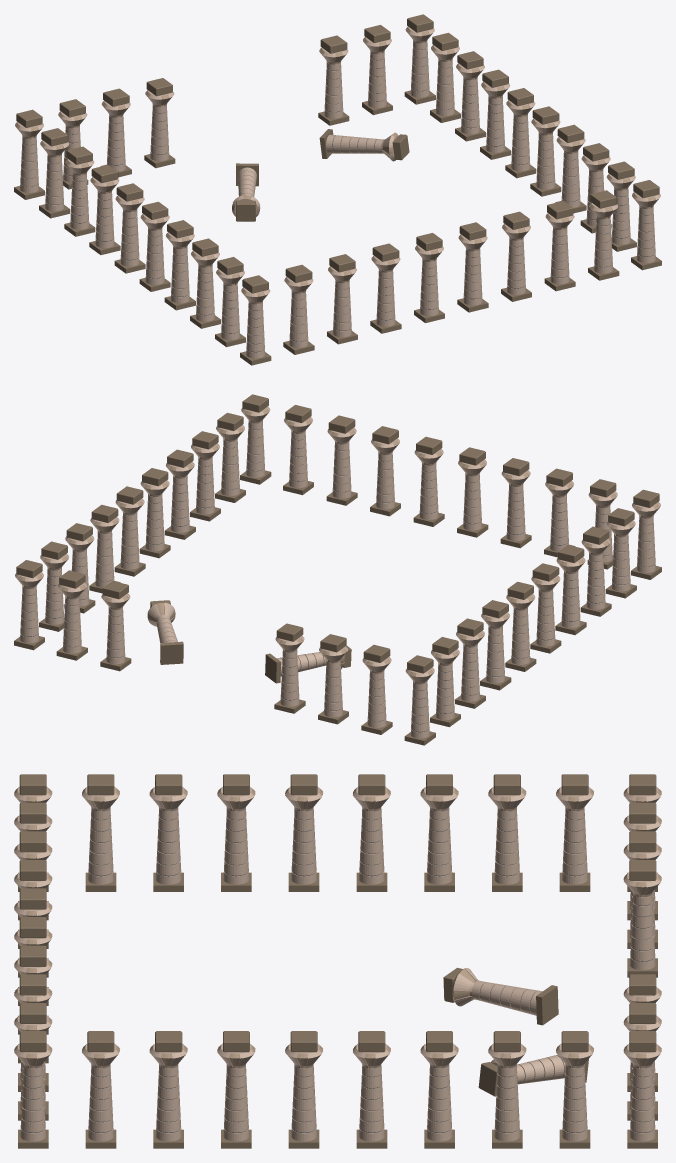
Rendered from pillars_001.fbx.
The picture shows the model from 3 angles, top to bottom: view 1: azimuth 30°, elevation 25°; view 2: azimuth 150°, elevation 25°; view 3: azimuth 270°, elevation 25°; orthographic projection. The views are drawn at different scales.
Visible parts, largest first — view 1: cloister_pillar.003, cloister_pillar.010, cloister_pillar.012, cloister_pillar.014, cloister_pillar.030, cloister_pillar.020, cloister_pillar.029, cloister_pillar.028, cloister_pillar.007, cloister_pillar.025, cloister_pillar.035, cloister_pillar.016 (+23 smaller); view 2: cloister_pillar.016, cloister_pillar.007, cloister_pillar.009, cloister_pillar.031, cloister_pillar.021, cloister_pillar.032, cloister_pillar.012, cloister_pillar.033, cloister_pillar.001, cloister_pillar.003, cloister_pillar.020, cloister_pillar.026 (+23 smaller); view 3: cloister_pillar.006, cloister_pillar.017, cloister_pillar.021, cloister_pillar.024, cloister_pillar.030, cloister_pillar.020, cloister_pillar.027, cloister_pillar.031, cloister_pillar.034, cloister_pillar.018, cloister_pillar.033, cloister_pillar.028 (+23 smaller).
Boxes of the visible parts, bbox=[...] form: cloister_pillar.003: bbox=[318, 35, 349, 125]; cloister_pillar.010: bbox=[283, 264, 314, 354]; cloister_pillar.012: bbox=[370, 243, 401, 333]; cloister_pillar.014: bbox=[457, 222, 488, 312]; cloister_pillar.030: bbox=[114, 183, 145, 273]; cloister_pillar.020: bbox=[530, 106, 561, 196]; cloister_pillar.029: bbox=[89, 165, 120, 254]; cloister_pillar.028: bbox=[64, 146, 95, 236]; cloister_pillar.007: bbox=[144, 78, 175, 168]; cloister_pillar.025: bbox=[404, 14, 435, 104]; cloister_pillar.035: bbox=[240, 275, 271, 365]; cloister_pillar.016: bbox=[544, 201, 575, 291]; cloister_pillar.016: bbox=[326, 415, 357, 505]; cloister_pillar.007: bbox=[274, 623, 305, 713]; cloister_pillar.009: bbox=[361, 644, 392, 734]; cloister_pillar.031: bbox=[530, 563, 561, 653]; cloister_pillar.021: bbox=[114, 486, 145, 576]; cloister_pillar.032: bbox=[555, 545, 586, 634]; cloister_pillar.012: bbox=[500, 458, 531, 548]; cloister_pillar.033: bbox=[580, 526, 611, 616]; cloister_pillar.001: bbox=[240, 394, 271, 484]; cloister_pillar.003: bbox=[100, 581, 131, 671]; cloister_pillar.020: bbox=[139, 468, 170, 558]; cloister_pillar.026: bbox=[404, 655, 435, 745]; cloister_pillar.006: bbox=[443, 967, 558, 1025]; cloister_pillar.017: bbox=[82, 1031, 119, 1148]; cloister_pillar.021: bbox=[353, 1031, 390, 1148]; cloister_pillar.024: bbox=[556, 1031, 593, 1148]; cloister_pillar.030: bbox=[353, 774, 390, 891]; cloister_pillar.020: bbox=[285, 1031, 322, 1148]; cloister_pillar.027: bbox=[556, 774, 593, 891]; cloister_pillar.031: bbox=[285, 774, 322, 891]; cloister_pillar.034: bbox=[82, 774, 119, 891]; cloister_pillar.018: bbox=[149, 1031, 187, 1148]; cloister_pillar.033: bbox=[149, 774, 187, 891]; cloister_pillar.028: bbox=[488, 774, 526, 891].
Bounding box in the file's own units: 399 × 400 × 86.21.
